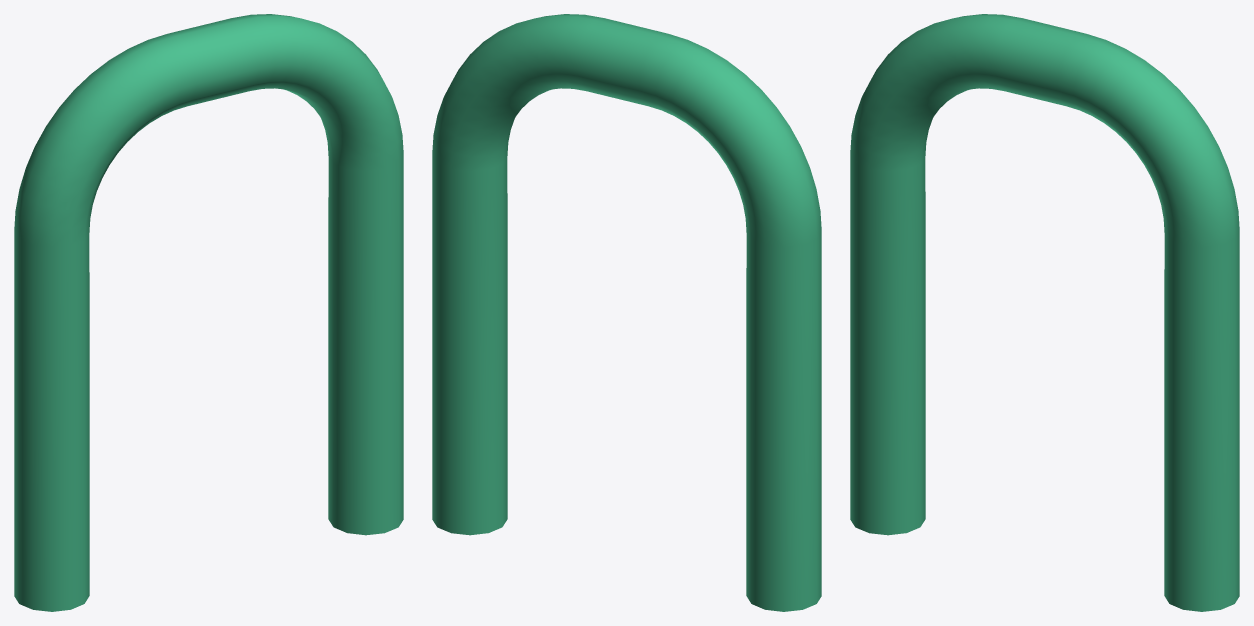
Rendered from gateLarge_teamGreen.gltf.glb.
3 renders of one model, left to right at view 1: azimuth 30°, elevation 25°; view 2: azimuth 150°, elevation 25°; view 3: azimuth 330°, elevation 25°, orthographic.
Visible parts, largest first — view 1: gateLarge_teamBlue; view 2: gateLarge_teamBlue; view 3: gateLarge_teamBlue.
Boxes of the visible parts, x1,y1,x2,y2 form: gateLarge_teamBlue: (14, 14, 403, 611); gateLarge_teamBlue: (432, 14, 821, 611); gateLarge_teamBlue: (850, 14, 1239, 611).
Bounding box in the file's own units: 2.4 × 3.2 × 0.4126.
